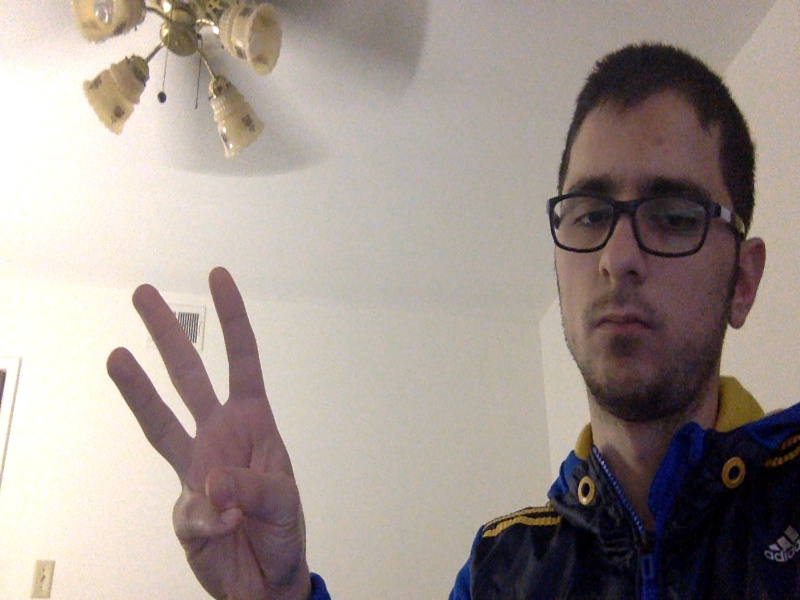3-hand: (106, 268, 311, 600)
